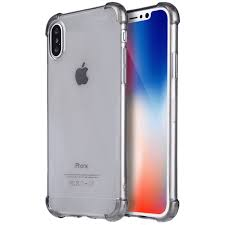iphone: (43, 1, 125, 217)
iphone10: (44, 1, 126, 218)
